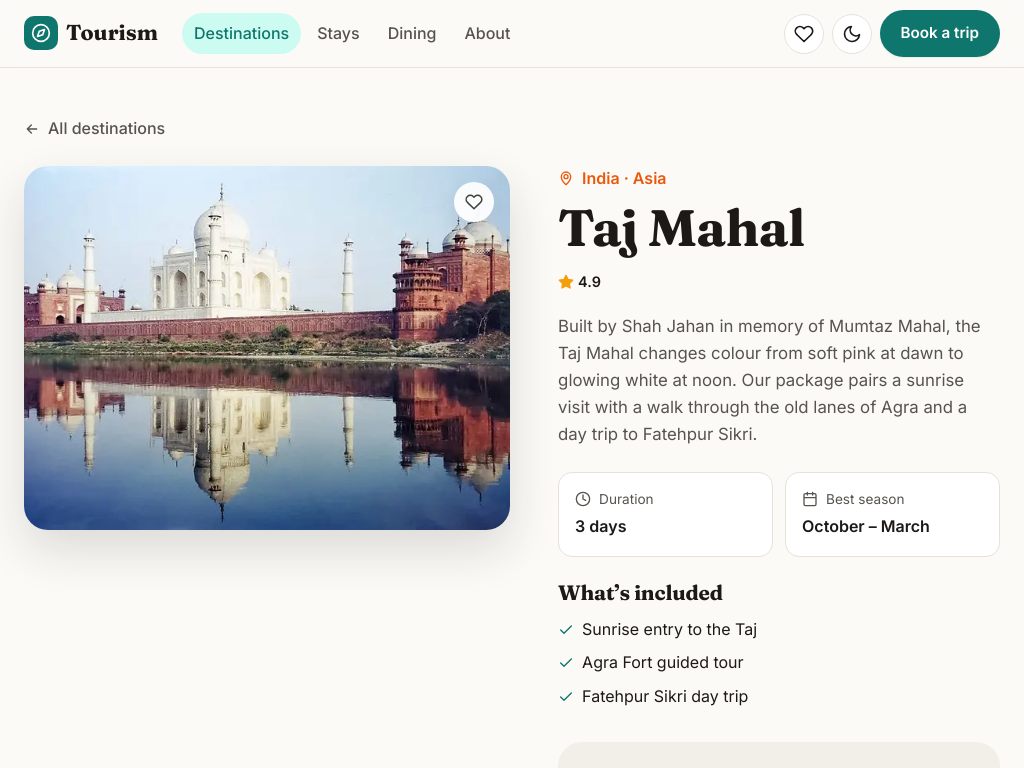
it: app routes › saves destinations to the wishlist
This screenshot has width=1024, height=768.
Click the button named "Save Taj Mahal to wishlist" at [474, 202], box [454,182,494,222]
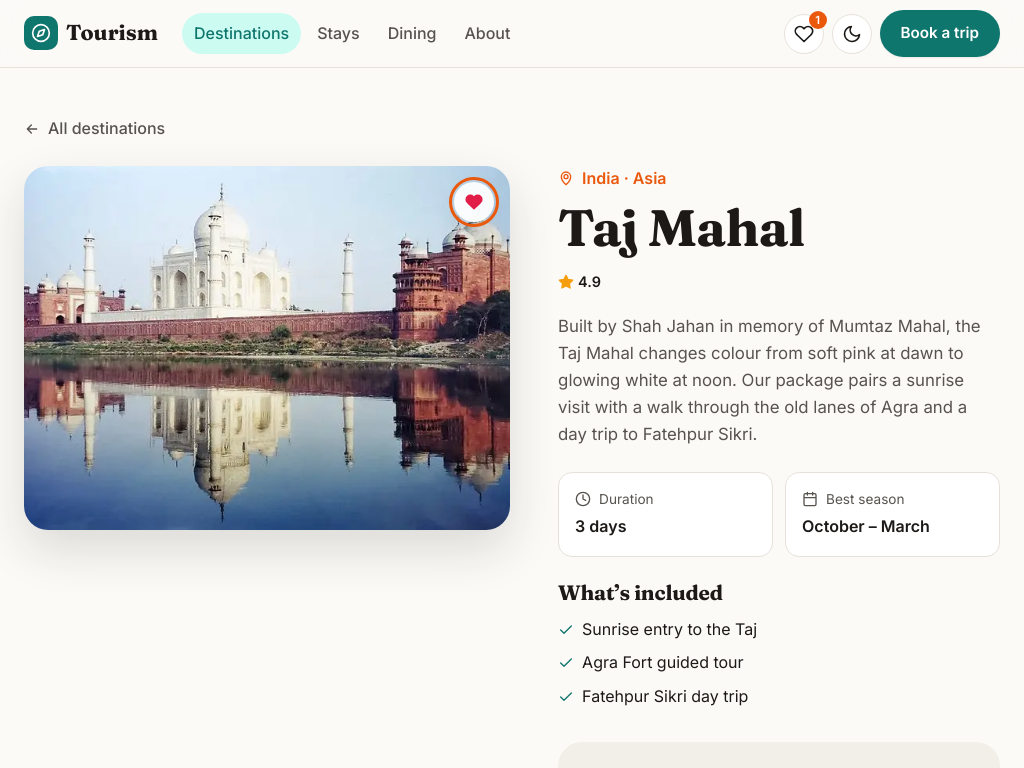
Expected: the link named "Wishlist, 1 saved" is shown, [784,14,824,54]
